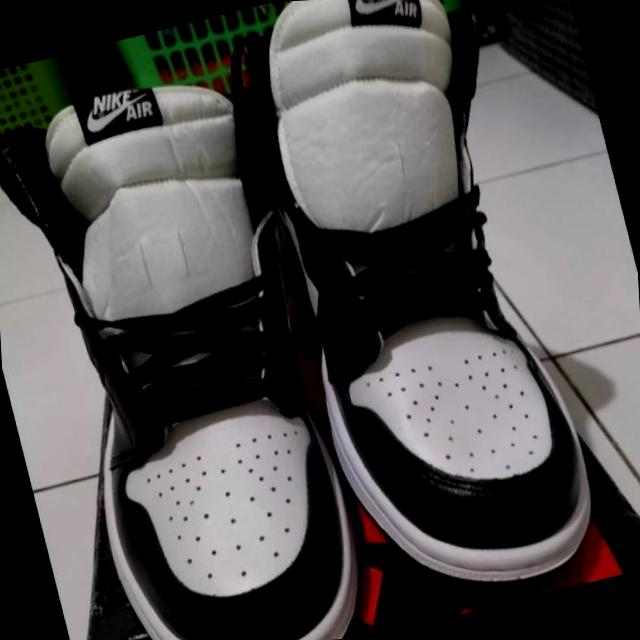nike_fake_jordan: (210, 0, 621, 631), (0, 39, 387, 640)
